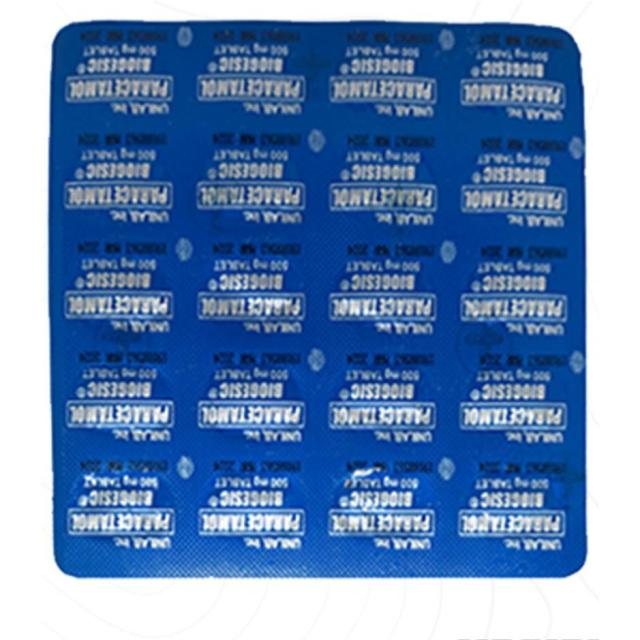blister: (42, 14, 596, 588)
